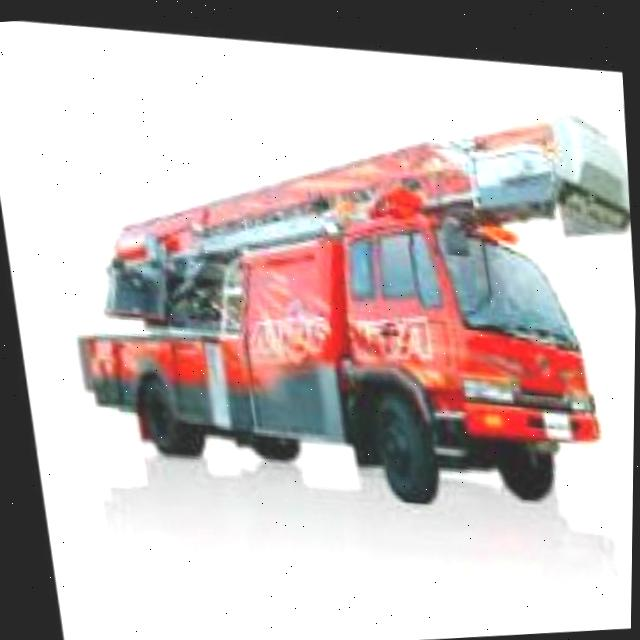emergency: (60, 98, 639, 530)
